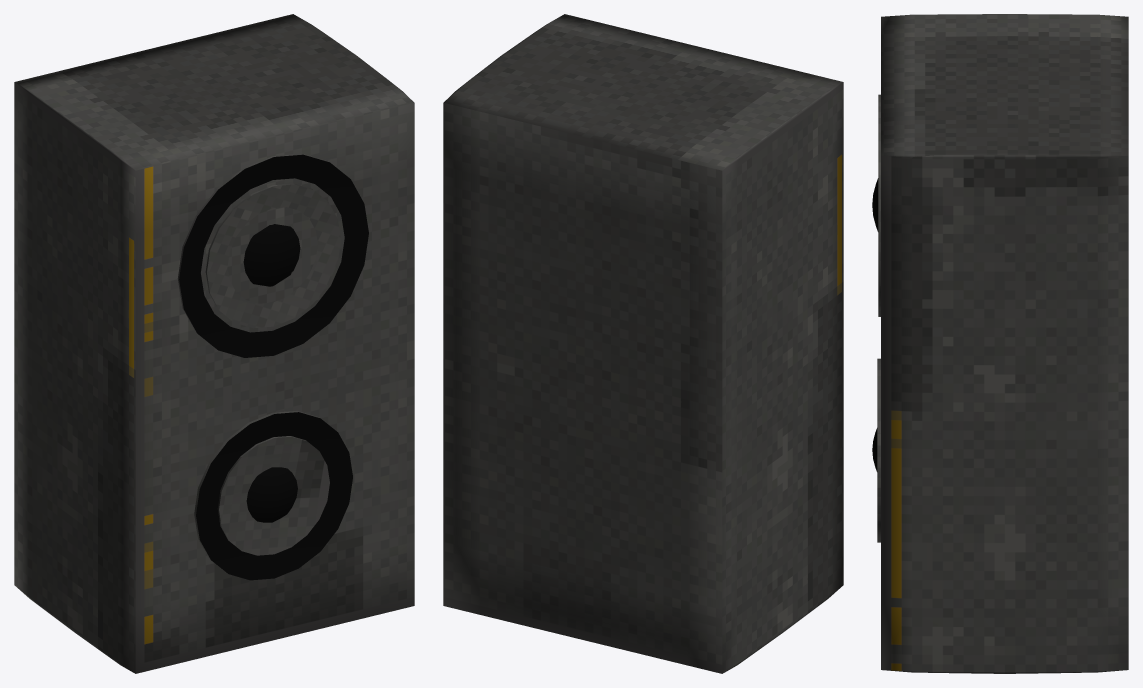
The model's file is Cassa_Musica.fbx.
3 renders of one model, left to right at view 1: azimuth 30°, elevation 25°; view 2: azimuth 150°, elevation 25°; view 3: azimuth 270°, elevation 25°, orthographic. The views are drawn at different scales.
Parts seen in each view (by area): view 1: cassa2; view 2: cassa2; view 3: cassa2.
Boxes of the visible parts, left/top/right/bottom form: cassa2: left=14, top=14, right=414, bottom=673; cassa2: left=443, top=14, right=843, bottom=673; cassa2: left=872, top=14, right=1128, bottom=673.
Size of the model in its own units: 0.4616 by 0.7914 by 0.3536.
2 materials, 1 textured.
